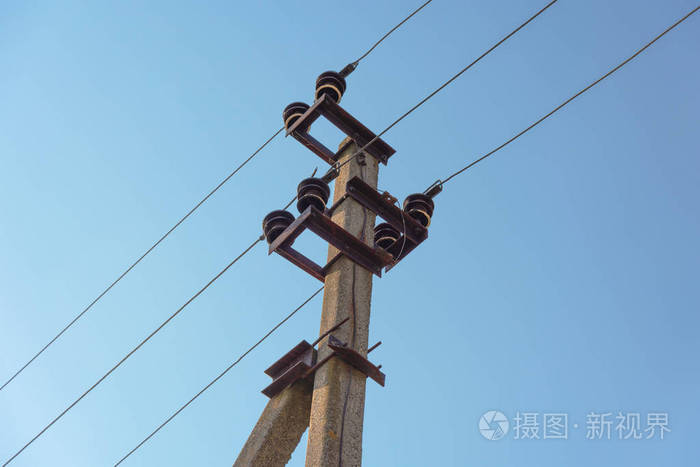insulator: (297, 177, 331, 212), (261, 207, 293, 244), (404, 192, 438, 223), (317, 69, 348, 101), (280, 102, 311, 133), (375, 222, 401, 250)
